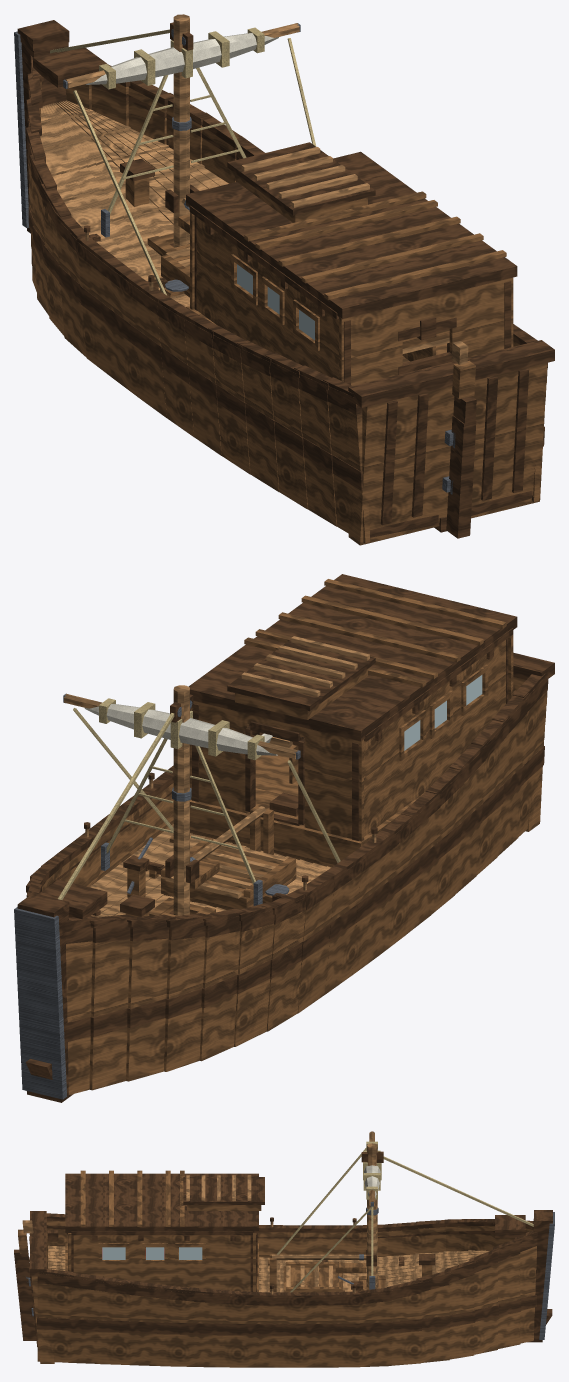
File: fishing_boat.fbx
The picture shows the model from 3 angles, top to bottom: view 1: azimuth 30°, elevation 25°; view 2: azimuth 150°, elevation 25°; view 3: azimuth 270°, elevation 25°; orthographic projection. The views are drawn at different scales.
Visible parts, largest first — view 1: fishing_boat; view 2: fishing_boat; view 3: fishing_boat.
Part boxes in pixels (<box>): fishing_boat: <box>14,14,554,545</box>; fishing_boat: <box>14,574,554,1102</box>; fishing_boat: <box>14,1131,554,1367</box>.
Size of the model in its own units: 284 by 364 by 917.
